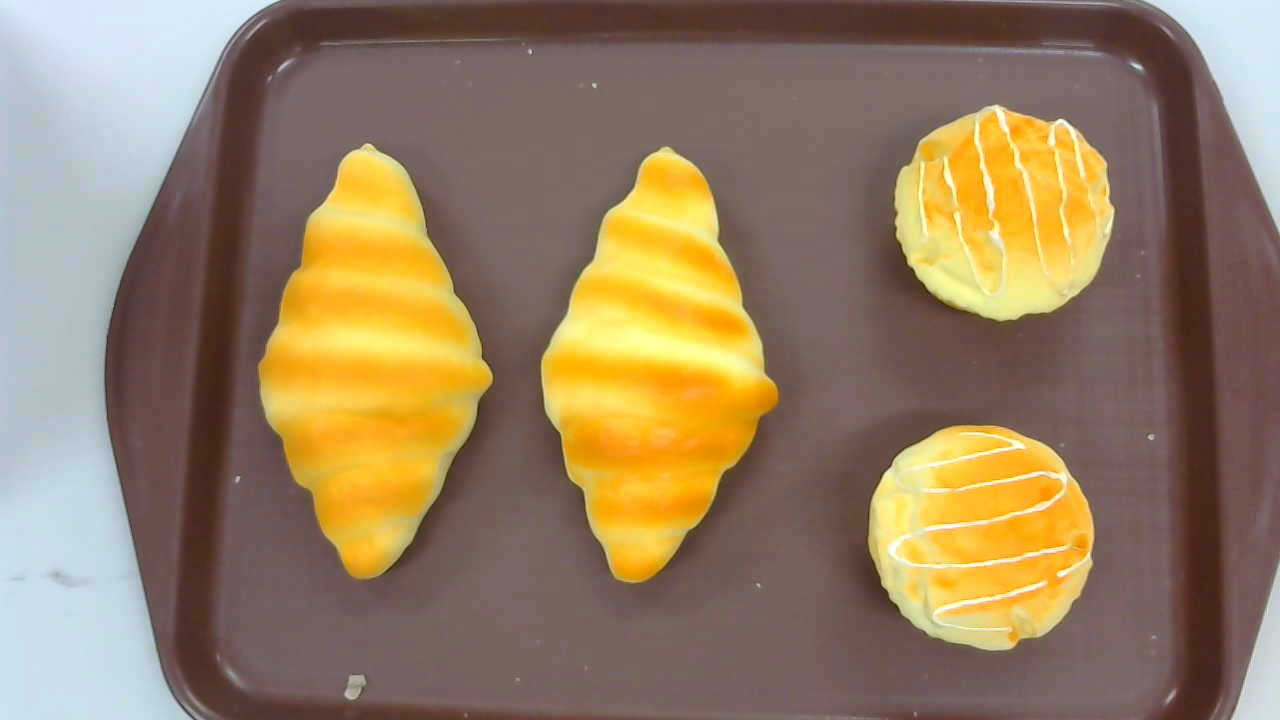croissant: (257, 138, 493, 584), (541, 146, 780, 584)
cupcake: (867, 424, 1095, 651), (894, 104, 1115, 323)
